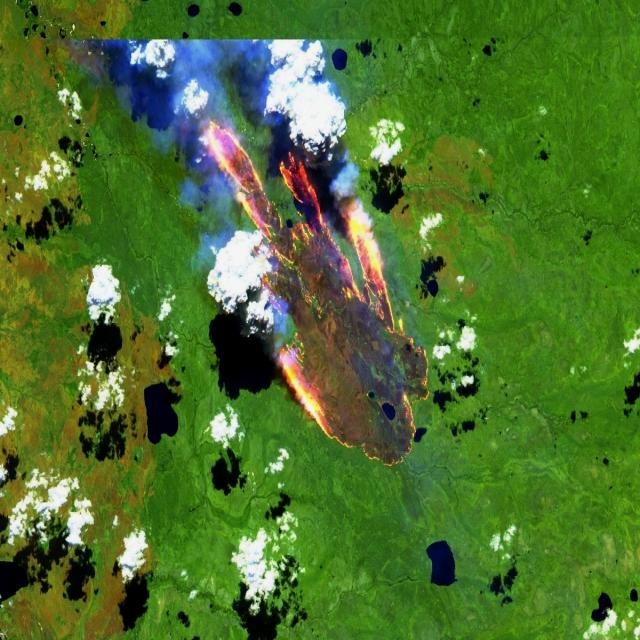fire: (199, 109, 439, 474)
